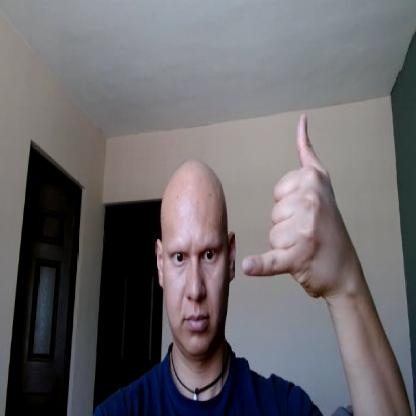Y: (242, 112, 342, 302)
